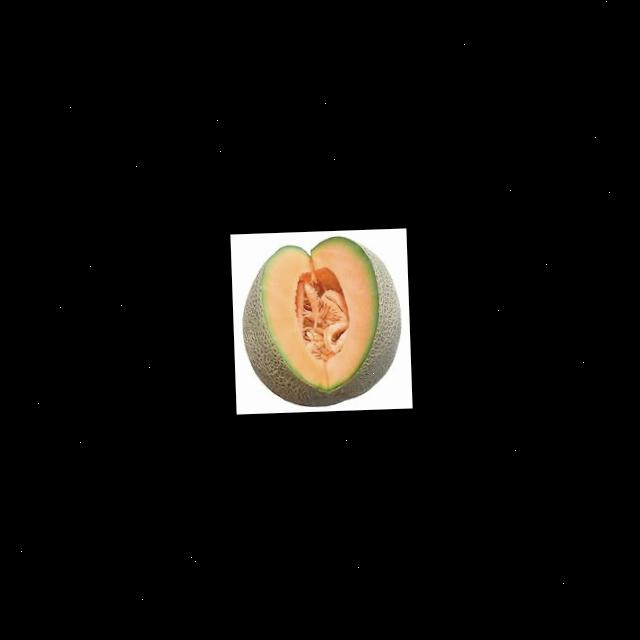Hami Melon: (238, 232, 404, 408)
